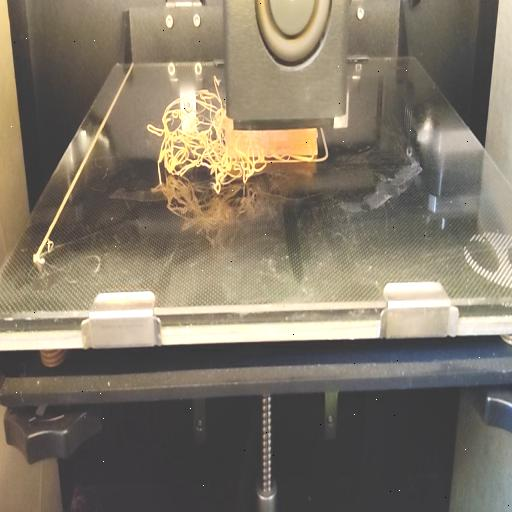spaghetti: (146, 73, 228, 201), (229, 125, 263, 186)
